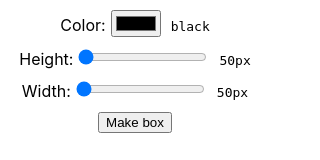
it: should show height & width dimensions
The width and height of the screenshot is (320, 160).
Check: the text "350px" is not shown
Check: the text "250px" is not shown
Set the slider labelled "Height:" to "350" at (162, 57), box x1=78 y1=49 x2=208 y2=65
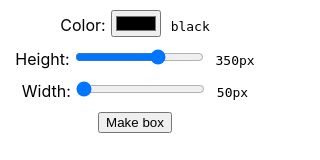
Set the slider labelled "Width:" to "250" at (134, 89), box x1=76 y1=81 x2=205 y2=97
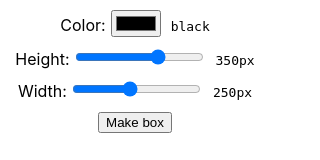
Check: the text "350px" is shown, box x1=216 y1=53 x2=255 y2=68
Check: the text "250px" is shown, box x1=213 y1=85 x2=252 y2=100
